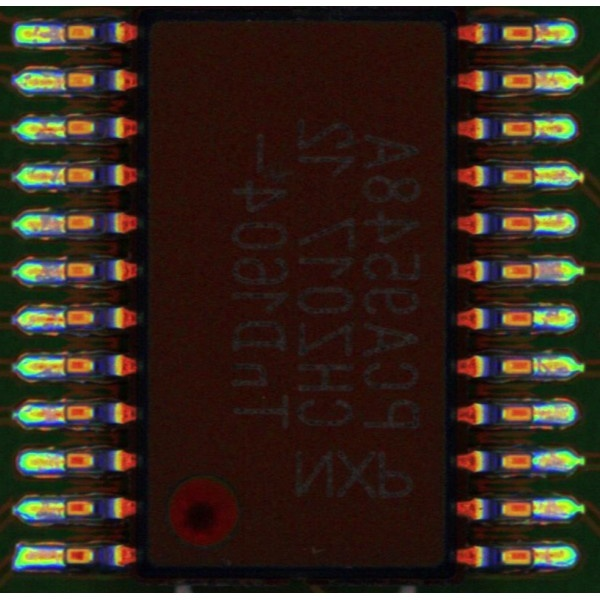Bad_podu: (48, 73, 83, 88), (49, 215, 81, 231), (45, 455, 82, 468), (48, 310, 79, 325), (50, 168, 83, 182), (46, 27, 81, 40), (48, 550, 79, 564), (46, 122, 82, 134), (518, 75, 554, 86), (520, 265, 552, 277), (49, 503, 78, 516), (50, 267, 81, 279), (50, 360, 81, 371), (520, 170, 554, 180), (50, 408, 82, 418), (518, 551, 553, 560), (521, 27, 549, 38), (521, 216, 548, 227), (525, 407, 541, 421)
